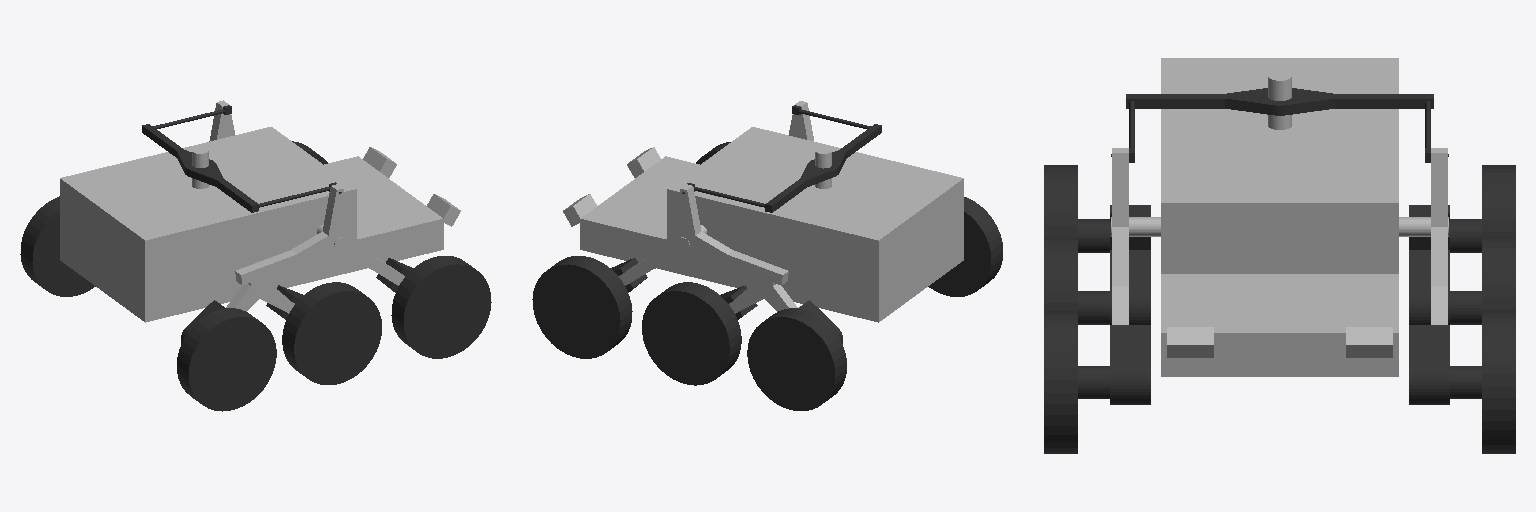
URDF robot description (silverhand_rover):
<?xml version="1.0" ?>
<!-- =================================================================================== -->
<!-- |    This document was autogenerated by xacro from /home/r/silver_ws/src/silverhand_rover_control/silverhand_rover_description/urdf/silverhand_rover_model.urdf.xacro | -->
<!-- |    EDITING THIS FILE BY HAND IS NOT RECOMMENDED                                 | -->
<!-- =================================================================================== -->
<robot name="silverhand_rover">
  <!-- ===================== -->
  <!-- Общие параметры       -->
  <!-- ===================== -->
  <!-- ===================== -->
  <!-- Параметры компоновки  -->
  <!-- ===================== -->
  <!-- Система координат:
       x - вперед
       y - влево
       z - вверх
  -->
  <!-- ===================== -->
  <!-- Сдвиги STL внутри link -->
  <!-- ===================== -->
  <!-- Начни с нулей. Потом правь именно их,
       если сам mesh внутри link сидит криво. -->
  <!-- Если правая сторона окажется вывернутой,
       попробуй для правой стороны в visual поставить:
       0 ${PI} 0
       или
       0 0 ${PI}
  -->
  <!-- ===================== -->
  <!-- Материалы             -->
  <!-- ===================== -->
  <material name="gray">
    <color rgba="0.75 0.75 0.75 1.0"/>
  </material>
  <material name="dark">
    <color rgba="0.25 0.25 0.25 1.0"/>
  </material>
  <!-- ===================== -->
  <!-- Макросы               -->
  <!-- ===================== -->
  <!-- ===================== -->
  <!-- База                  -->
  <!-- ===================== -->
  <link name="base_footprint"/>
  <joint name="base_footprint_to_base_link_joint" type="fixed">
    <parent link="base_footprint"/>
    <child link="base_link"/>
    <origin rpy="0 0 0" xyz="0 0 0.350738"/>
  </joint>
  <link name="base_link">
    <visual>
      <origin rpy="1.5707963267948966 0 1.5707963267948966" xyz="-0.017 0 -0.162"/>
      <geometry>
        <mesh filename="package://silverhand_rover_description/meshes/Body.stl" scale="0.001 0.001 0.001"/>
      </geometry>
      <material name="gray"/>
    </visual>
    <collision>
      <origin rpy="1.5707963267948966 0 1.5707963267948966" xyz="-0.017 0 -0.162"/>
      <geometry>
        <mesh filename="package://silverhand_rover_description/meshes/Body.stl" scale="0.001 0.001 0.001"/>
      </geometry>
    </collision>
    <inertial>
      <origin rpy="0 0 0" xyz="0 0 0"/>
      <mass value="5.0"/>
      <inertia ixx="0.19266666666666665" ixy="0.0" ixz="0.0" iyy="0.39533333333333337" iyz="0.0" izz="0.5026666666666667"/>
    </inertial>
  </link>
  <!-- Центральный visual-узел.
       Пока просто декоративно/визуально.
       Если потом захочешь честную механику дифференциала,
       его уже можно будет перестроить. -->
  <link name="differential_visual_link">
    <visual>
      <origin rpy="1.5707963267948966 0 1.5707963267948966" xyz="0 0 0"/>
      <geometry>
        <mesh filename="package://silverhand_rover_description/meshes/Differential.stl" scale="0.001 0.001 0.001"/>
      </geometry>
      <material name="dark"/>
    </visual>
    <collision>
      <origin rpy="1.5707963267948966 0 1.5707963267948966" xyz="0 0 0"/>
      <geometry>
        <mesh filename="package://silverhand_rover_description/meshes/Differential.stl" scale="0.001 0.001 0.001"/>
      </geometry>
    </collision>
    <inertial>
      <origin rpy="0 0 0" xyz="0 0 0"/>
      <mass value="0.8"/>
      <inertia ixx="0.029226666666666668" ixy="0.0" ixz="0.0" iyy="0.02402666666666667" iyz="0.0" izz="0.005253333333333335"/>
    </inertial>
  </link>
  <joint name="base_to_differential_visual_joint" type="fixed">
    <parent link="base_link"/>
    <child link="differential_visual_link"/>
    <origin rpy="0 0 0" xyz="-0.1769 0 0.111"/>
  </joint>
  <link name="left_leg_visual_link">
    <visual>
      <origin rpy="1.5707963267948966 0 4.71238898038469" xyz="0 0 0"/>
      <geometry>
        <mesh filename="package://silverhand_rover_description/meshes/Leg.stl" scale="0.001 0.001 0.001"/>
      </geometry>
      <material name="gray"/>
    </visual>
    <collision>
      <origin rpy="1.5707963267948966 0 4.71238898038469" xyz="0 0 0"/>
      <geometry>
        <mesh filename="package://silverhand_rover_description/meshes/Leg.stl" scale="0.001 0.001 0.001"/>
      </geometry>
    </collision>
  </link>
  <joint name="base_to_left_leg_visual_joint" type="fixed">
    <parent link="base_link"/>
    <child link="left_leg_visual_link"/>
    <origin rpy="0 0 0" xyz="0.053 0.285 -0.029"/>
  </joint>
  <link name="right_leg_visual_link">
    <visual>
      <origin rpy="1.5707963267948966 0 4.71238898038469" xyz="0 0 0"/>
      <geometry>
        <mesh filename="package://silverhand_rover_description/meshes/Leg.stl" scale="0.001 0.001 0.001"/>
      </geometry>
      <material name="gray"/>
    </visual>
    <collision>
      <origin rpy="1.5707963267948966 0 4.71238898038469" xyz="0 0 0"/>
      <geometry>
        <mesh filename="package://silverhand_rover_description/meshes/Leg.stl" scale="0.001 0.001 0.001"/>
      </geometry>
    </collision>
  </link>
  <joint name="base_to_right_leg_visual_joint" type="fixed">
    <parent link="base_link"/>
    <child link="right_leg_visual_link"/>
    <origin rpy="0 0 0" xyz="0.053 -0.285 -0.029"/>
  </joint>
  <!-- ===================== -->
  <!-- Левая и правая сторона -->
  <!-- ===================== -->
  <!-- ROCKER -->
  <link name="left_rocker_link">
    <inertial>
      <origin rpy="0 0 0" xyz="0 0 0"/>
      <mass value="0.7"/>
      <inertia ixx="0.0016391666666666666" ixy="0.0" ixz="0.0" iyy="0.01082666666666667" iyz="0.0" izz="0.009479166666666669"/>
    </inertial>
  </link>
  <joint name="base_to_left_rocker_joint" type="revolute">
    <parent link="base_link"/>
    <child link="left_rocker_link"/>
    <origin rpy="0 0 0" xyz="0.1 0.355 -0.1"/>
    <!-- Rocker качается в продольной плоскости -->
    <axis xyz="0 1 0"/>
    <limit effort="50" lower="-1.2" upper="1.2" velocity="2.0"/>
    <dynamics damping="0.5" friction="0.1"/>
  </joint>
  <!-- BOGIE -->
  <link name="left_bogie_link">
    <inertial>
      <origin rpy="0 0 0" xyz="0 0 0"/>
      <mass value="0.6"/>
      <inertia ixx="0.001105" ixy="0.0" ixz="0.0" iyy="0.007104999999999999" iyz="0.0" izz="0.006249999999999999"/>
    </inertial>
  </link>
  <joint name="left_rocker_to_left_bogie_joint" type="revolute">
    <parent link="left_rocker_link"/>
    <child link="left_bogie_link"/>
    <origin rpy="0 0 0" xyz="-0.25 0.0 0.0"/>
    <axis xyz="0 1 0"/>
    <limit effort="50" lower="-1.2" upper="1.2" velocity="2.0"/>
    <dynamics damping="0.5" friction="0.1"/>
  </joint>
  <link name="left_front_wheel_link">
    <visual>
      <origin rpy="-1.5707963267948966 -0.890121786 0" xyz="-0.10706 -0.088 0.09654"/>
      <geometry>
        <mesh filename="package://silverhand_rover_description/meshes/Wheel.stl" scale="0.001 0.001 0.001"/>
      </geometry>
      <material name="dark"/>
    </visual>
    <collision>
      <origin rpy="-1.5707963267948966 -0.890121786 0" xyz="-0.10706 -0.088 0.09654"/>
      <geometry>
        <mesh filename="package://silverhand_rover_description/meshes/Wheel.stl" scale="0.001 0.001 0.001"/>
      </geometry>
    </collision>
    <inertial>
      <origin rpy="0 0 0" xyz="0 0 0"/>
      <mass value="0.35"/>
      <!-- Цилиндр с осью вдоль Y -->
      <inertia ixx="0.002461982541666667" ixy="0.0" ixz="0.0" iyy="0.0028181317500000007" iyz="0.0" izz="0.002461982541666667"/>
    </inertial>
  </link>
  <joint name="left_front_wheel_joint" type="continuous">
    <parent link="left_rocker_link"/>
    <child link="left_front_wheel_link"/>
    <origin rpy="0 0 0" xyz="0.3 0.0 -0.22"/>
    <axis xyz="0 1 0"/>
    <dynamics damping="0.2" friction="0.05"/>
  </joint>
  <link name="left_middle_wheel_link">
    <visual>
      <origin rpy="-1.5707963267948966 -0.928081215 0" xyz="0.10790 -0.088 0.09683"/>
      <geometry>
        <mesh filename="package://silverhand_rover_description/meshes/Wheel.stl" scale="0.001 0.001 0.001"/>
      </geometry>
      <material name="dark"/>
    </visual>
    <collision>
      <origin rpy="-1.5707963267948966 -0.928081215 0" xyz="0.10790 -0.088 0.09683"/>
      <geometry>
        <mesh filename="package://silverhand_rover_description/meshes/Wheel.stl" scale="0.001 0.001 0.001"/>
      </geometry>
    </collision>
    <inertial>
      <origin rpy="0 0 0" xyz="0 0 0"/>
      <mass value="0.35"/>
      <!-- Цилиндр с осью вдоль Y -->
      <inertia ixx="0.002461982541666667" ixy="0.0" ixz="0.0" iyy="0.0028181317500000007" iyz="0.0" izz="0.002461982541666667"/>
    </inertial>
  </link>
  <joint name="left_middle_wheel_joint" type="continuous">
    <parent link="left_bogie_link"/>
    <child link="left_middle_wheel_link"/>
    <origin rpy="0 0 0" xyz="0.02 0.0 -0.22"/>
    <axis xyz="0 1 0"/>
    <dynamics damping="0.2" friction="0.05"/>
  </joint>
  <link name="left_rear_wheel_link">
    <visual>
      <origin rpy="-1.5707963267948966 0.869224977 0" xyz="0.14377 -0.088 0.09623"/>
      <geometry>
        <mesh filename="package://silverhand_rover_description/meshes/Wheel.stl" scale="0.001 0.001 0.001"/>
      </geometry>
      <material name="dark"/>
    </visual>
    <collision>
      <origin rpy="-1.5707963267948966 0.869224977 0" xyz="0.14377 -0.088 0.09623"/>
      <geometry>
        <mesh filename="package://silverhand_rover_description/meshes/Wheel.stl" scale="0.001 0.001 0.001"/>
      </geometry>
    </collision>
    <inertial>
      <origin rpy="0 0 0" xyz="0 0 0"/>
      <mass value="0.35"/>
      <!-- Цилиндр с осью вдоль Y -->
      <inertia ixx="0.002461982541666667" ixy="0.0" ixz="0.0" iyy="0.0028181317500000007" iyz="0.0" izz="0.002461982541666667"/>
    </inertial>
  </link>
  <joint name="left_rear_wheel_joint" type="continuous">
    <parent link="left_bogie_link"/>
    <child link="left_rear_wheel_link"/>
    <origin rpy="0 0 0" xyz="-0.32 0.0 -0.22"/>
    <axis xyz="0 1 0"/>
    <dynamics damping="0.2" friction="0.05"/>
  </joint>
  <!-- ROCKER -->
  <link name="right_rocker_link">
    <inertial>
      <origin rpy="0 0 0" xyz="0 0 0"/>
      <mass value="0.7"/>
      <inertia ixx="0.0016391666666666666" ixy="0.0" ixz="0.0" iyy="0.01082666666666667" iyz="0.0" izz="0.009479166666666669"/>
    </inertial>
  </link>
  <joint name="base_to_right_rocker_joint" type="revolute">
    <parent link="base_link"/>
    <child link="right_rocker_link"/>
    <origin rpy="0 0 0" xyz="0.1 -0.355 -0.1"/>
    <!-- Rocker качается в продольной плоскости -->
    <axis xyz="0 1 0"/>
    <limit effort="50" lower="-1.2" upper="1.2" velocity="2.0"/>
    <dynamics damping="0.5" friction="0.1"/>
  </joint>
  <!-- BOGIE -->
  <link name="right_bogie_link">
    <inertial>
      <origin rpy="0 0 0" xyz="0 0 0"/>
      <mass value="0.6"/>
      <inertia ixx="0.001105" ixy="0.0" ixz="0.0" iyy="0.007104999999999999" iyz="0.0" izz="0.006249999999999999"/>
    </inertial>
  </link>
  <joint name="right_rocker_to_right_bogie_joint" type="revolute">
    <parent link="right_rocker_link"/>
    <child link="right_bogie_link"/>
    <origin rpy="0 0 0" xyz="-0.25 0.0 0.0"/>
    <axis xyz="0 1 0"/>
    <limit effort="50" lower="-1.2" upper="1.2" velocity="2.0"/>
    <dynamics damping="0.5" friction="0.1"/>
  </joint>
  <link name="right_front_wheel_link">
    <visual>
      <origin rpy="-1.5707963267948966 0.890121786 3.141592653589793" xyz="-0.10706 0.088 0.09654"/>
      <geometry>
        <mesh filename="package://silverhand_rover_description/meshes/Wheel.stl" scale="0.001 0.001 0.001"/>
      </geometry>
      <material name="dark"/>
    </visual>
    <collision>
      <origin rpy="-1.5707963267948966 0.890121786 3.141592653589793" xyz="-0.10706 0.088 0.09654"/>
      <geometry>
        <mesh filename="package://silverhand_rover_description/meshes/Wheel.stl" scale="0.001 0.001 0.001"/>
      </geometry>
    </collision>
    <inertial>
      <origin rpy="0 0 0" xyz="0 0 0"/>
      <mass value="0.35"/>
      <!-- Цилиндр с осью вдоль Y -->
      <inertia ixx="0.002461982541666667" ixy="0.0" ixz="0.0" iyy="0.0028181317500000007" iyz="0.0" izz="0.002461982541666667"/>
    </inertial>
  </link>
  <joint name="right_front_wheel_joint" type="continuous">
    <parent link="right_rocker_link"/>
    <child link="right_front_wheel_link"/>
    <origin rpy="0 0 0" xyz="0.3 0.0 -0.22"/>
    <axis xyz="0 1 0"/>
    <dynamics damping="0.2" friction="0.05"/>
  </joint>
  <link name="right_middle_wheel_link">
    <visual>
      <origin rpy="-1.5707963267948966 0.928081215 3.141592653589793" xyz="0.10790 0.088 0.09683"/>
      <geometry>
        <mesh filename="package://silverhand_rover_description/meshes/Wheel.stl" scale="0.001 0.001 0.001"/>
      </geometry>
      <material name="dark"/>
    </visual>
    <collision>
      <origin rpy="-1.5707963267948966 0.928081215 3.141592653589793" xyz="0.10790 0.088 0.09683"/>
      <geometry>
        <mesh filename="package://silverhand_rover_description/meshes/Wheel.stl" scale="0.001 0.001 0.001"/>
      </geometry>
    </collision>
    <inertial>
      <origin rpy="0 0 0" xyz="0 0 0"/>
      <mass value="0.35"/>
      <!-- Цилиндр с осью вдоль Y -->
      <inertia ixx="0.002461982541666667" ixy="0.0" ixz="0.0" iyy="0.0028181317500000007" iyz="0.0" izz="0.002461982541666667"/>
    </inertial>
  </link>
  <joint name="right_middle_wheel_joint" type="continuous">
    <parent link="right_bogie_link"/>
    <child link="right_middle_wheel_link"/>
    <origin rpy="0 0 0" xyz="0.02 0.0 -0.22"/>
    <axis xyz="0 1 0"/>
    <dynamics damping="0.2" friction="0.05"/>
  </joint>
  <link name="right_rear_wheel_link">
    <visual>
      <origin rpy="-1.5707963267948966 -0.869224977 3.141592653589793" xyz="0.14377 0.088 0.09623"/>
      <geometry>
        <mesh filename="package://silverhand_rover_description/meshes/Wheel.stl" scale="0.001 0.001 0.001"/>
      </geometry>
      <material name="dark"/>
    </visual>
    <collision>
      <origin rpy="-1.5707963267948966 -0.869224977 3.141592653589793" xyz="0.14377 0.088 0.09623"/>
      <geometry>
        <mesh filename="package://silverhand_rover_description/meshes/Wheel.stl" scale="0.001 0.001 0.001"/>
      </geometry>
    </collision>
    <inertial>
      <origin rpy="0 0 0" xyz="0 0 0"/>
      <mass value="0.35"/>
      <!-- Цилиндр с осью вдоль Y -->
      <inertia ixx="0.002461982541666667" ixy="0.0" ixz="0.0" iyy="0.0028181317500000007" iyz="0.0" izz="0.002461982541666667"/>
    </inertial>
  </link>
  <joint name="right_rear_wheel_joint" type="continuous">
    <parent link="right_bogie_link"/>
    <child link="right_rear_wheel_link"/>
    <origin rpy="0 0 0" xyz="-0.32 0.0 -0.22"/>
    <axis xyz="0 1 0"/>
    <dynamics damping="0.2" friction="0.05"/>
  </joint>
</robot>

--- What the picture shows (computed from the rendered views, not written in the file) ---
3 views of the same robot in one strip: view 1: azimuth 30°, elevation 25°; view 2: azimuth 150°, elevation 25°; view 3: azimuth 270°, elevation 25° (orthographic).
Robot: silverhand_rover — 15 links, 14 joints (4 revolute, 6 continuous, 4 fixed); root link base_footprint; default pose: all joints at 0.
Links seen in each view (by area): view 1: base_link, right_front_wheel_link, right_middle_wheel_link, right_rear_wheel_link, right_leg_visual_link, left_rear_wheel_link, differential_visual_link, left_leg_visual_link; view 2: base_link, left_front_wheel_link, left_middle_wheel_link, left_rear_wheel_link, left_leg_visual_link, right_rear_wheel_link, differential_visual_link, right_leg_visual_link; view 3: base_link, right_front_wheel_link, left_front_wheel_link, differential_visual_link, left_middle_wheel_link, right_middle_wheel_link, left_rear_wheel_link, right_rear_wheel_link, left_leg_visual_link, right_leg_visual_link.
Boxes of the visible links, bbox=[...] form: base_link: bbox=[60, 127, 460, 322]; right_front_wheel_link: bbox=[376, 256, 491, 358]; right_middle_wheel_link: bbox=[266, 282, 381, 384]; right_rear_wheel_link: bbox=[177, 300, 276, 411]; right_leg_visual_link: bbox=[226, 184, 404, 313]; left_rear_wheel_link: bbox=[20, 196, 95, 296]; differential_visual_link: bbox=[142, 105, 341, 212]; left_leg_visual_link: bbox=[209, 100, 234, 141]; base_link: bbox=[563, 127, 963, 322]; left_front_wheel_link: bbox=[532, 256, 647, 358]; left_middle_wheel_link: bbox=[642, 282, 757, 385]; left_rear_wheel_link: bbox=[747, 300, 846, 410]; left_leg_visual_link: bbox=[618, 184, 797, 313]; right_rear_wheel_link: bbox=[928, 197, 1002, 296]; differential_visual_link: bbox=[682, 105, 881, 212]; right_leg_visual_link: bbox=[789, 101, 813, 140]; base_link: bbox=[1111, 58, 1448, 376]; right_front_wheel_link: bbox=[1044, 311, 1150, 453]; left_front_wheel_link: bbox=[1409, 312, 1515, 453]; differential_visual_link: bbox=[1111, 88, 1448, 162]; left_middle_wheel_link: bbox=[1409, 237, 1515, 324]; right_middle_wheel_link: bbox=[1044, 237, 1150, 324]; left_rear_wheel_link: bbox=[1409, 165, 1515, 252]; right_rear_wheel_link: bbox=[1044, 165, 1150, 252]; left_leg_visual_link: bbox=[1431, 148, 1447, 324]; right_leg_visual_link: bbox=[1112, 148, 1128, 324].
Bounding box of the posed robot: 0.9177 × 0.84 × 0.5117 m (x, y, z).
Meshes: 4 distinct files referenced, 10 mesh visuals loaded (4 binary STL).
